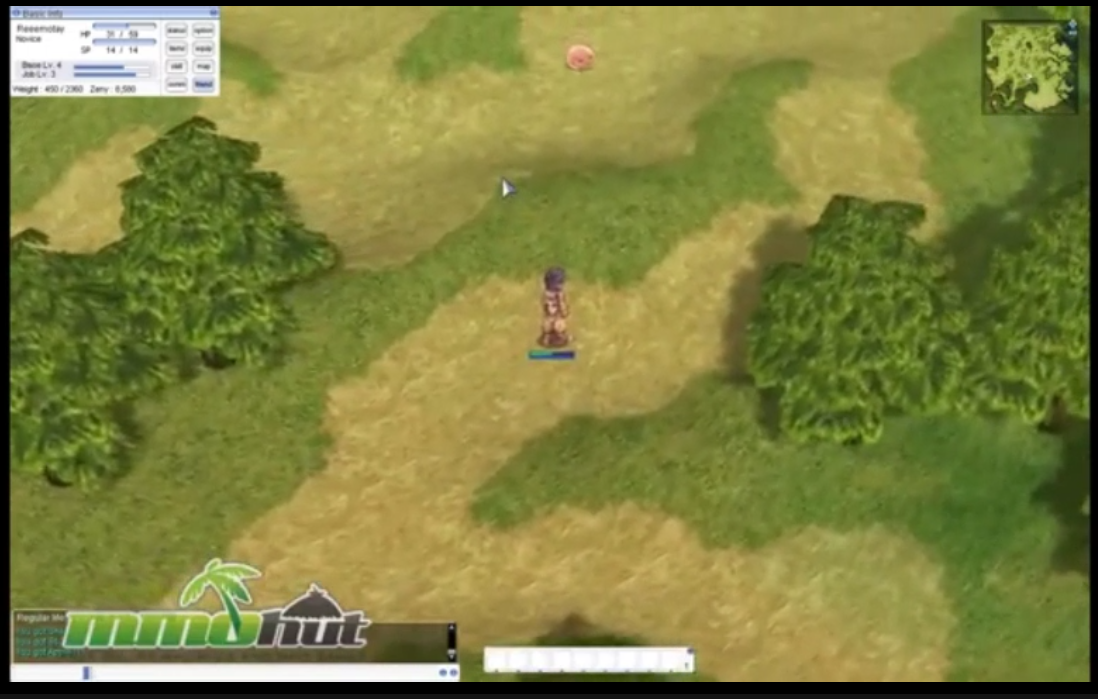porling: (562, 46, 597, 72)
